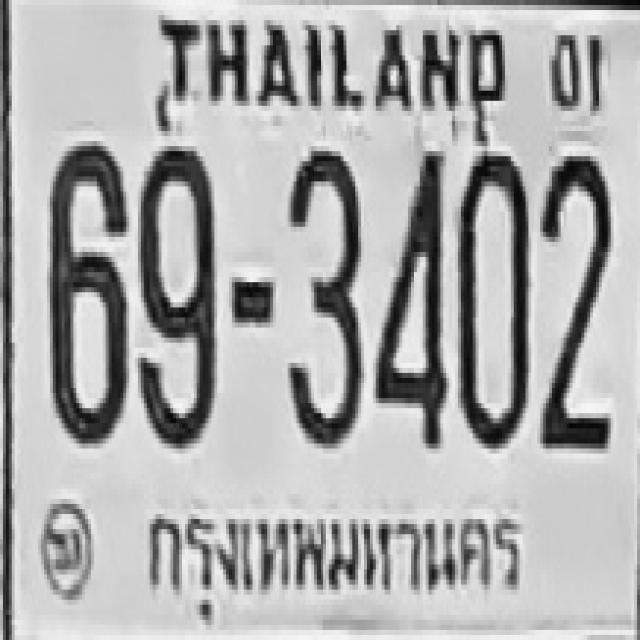0: (458, 149, 528, 446)
2: (537, 151, 611, 449)
3: (286, 146, 363, 444)
4: (373, 146, 446, 444)
6: (47, 141, 126, 444)
9: (138, 141, 214, 449)
Bangkok: (135, 504, 528, 597)
